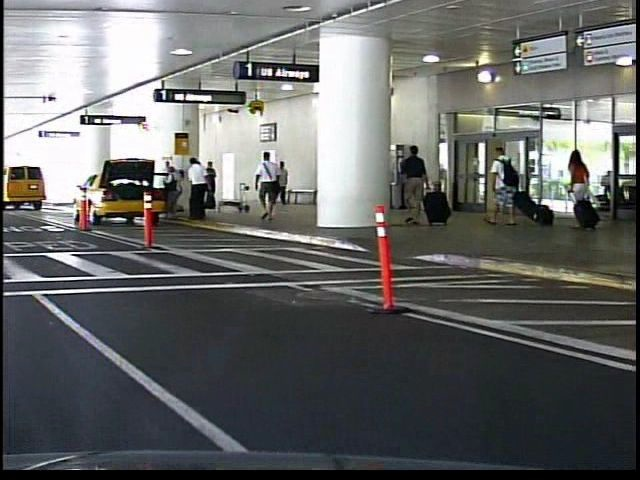person: (485, 140, 522, 226), (559, 144, 594, 230), (395, 142, 426, 228), (248, 149, 280, 222), (266, 161, 285, 208)
